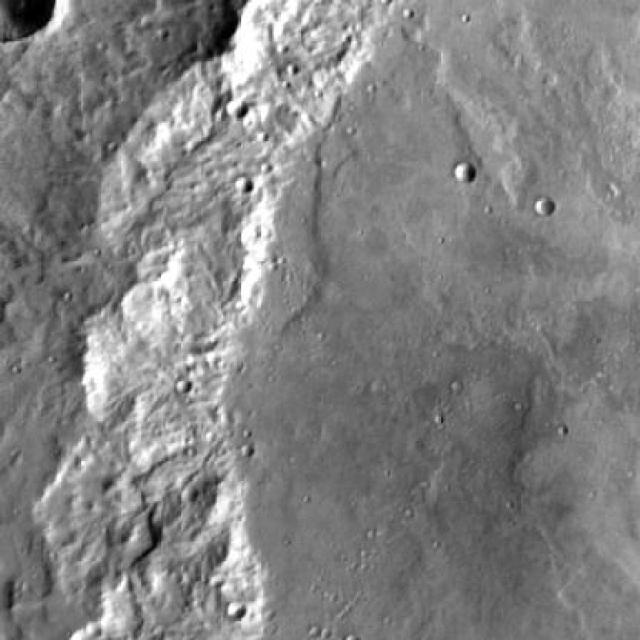crater: (454, 161, 475, 181), (226, 98, 246, 118), (534, 195, 554, 214), (228, 602, 248, 620), (235, 175, 254, 192)
